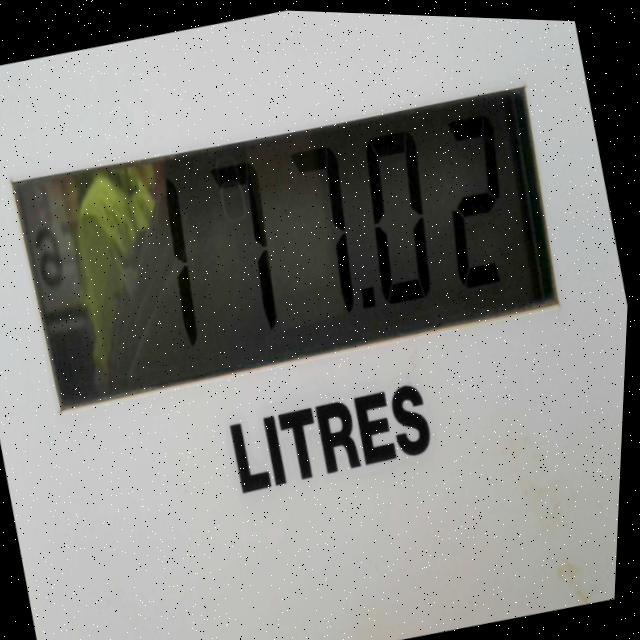.: (363, 284, 380, 310)
0: (352, 130, 445, 313)
1: (153, 174, 215, 344)
2: (430, 104, 528, 281)
7: (204, 150, 296, 342), (287, 137, 369, 313)
